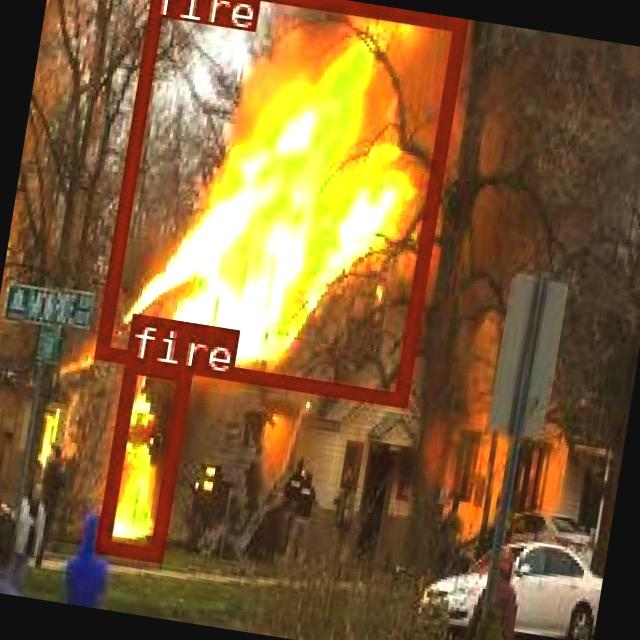fire: (92, 0, 466, 403), (94, 357, 190, 559)
